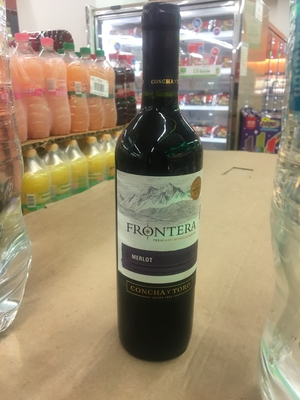frontera merlot: (105, 10, 213, 352)
